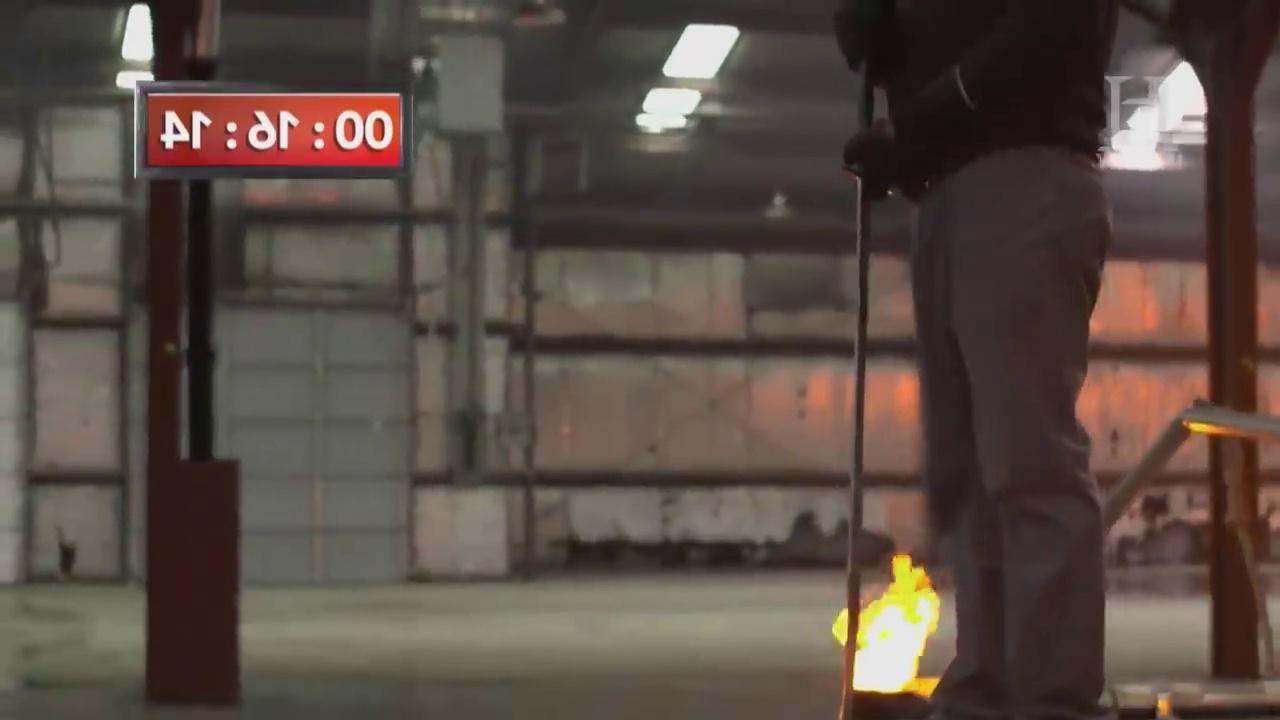Fire: (824, 555, 949, 696)
